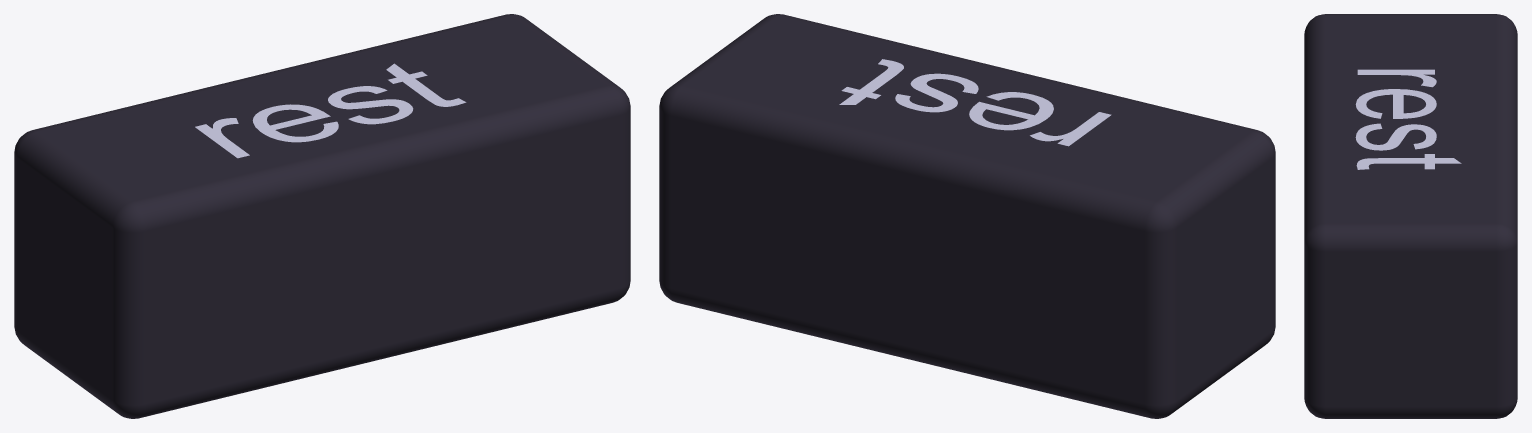
File: rest.glb
The picture shows the model from 3 angles, left to right: view 1: azimuth 30°, elevation 25°; view 2: azimuth 150°, elevation 25°; view 3: azimuth 270°, elevation 25°; orthographic projection. The views are drawn at different scales.
Parts seen in each view (by area): view 1: Cut, Extrude; view 2: Cut, Extrude; view 3: Cut, Extrude.
Part boxes in pixels (x1=…): Cut: x1=14, y1=14, x2=630, y2=418; Extrude: x1=195, y1=63, x2=466, y2=158; Cut: x1=659, y1=14, x2=1275, y2=418; Extrude: x1=839, y1=59, x2=1111, y2=146; Cut: x1=1304, y1=14, x2=1517, y2=418; Extrude: x1=1355, y1=69, x2=1461, y2=169.
Bounding box in the file's own units: 5 × 2 × 2.
